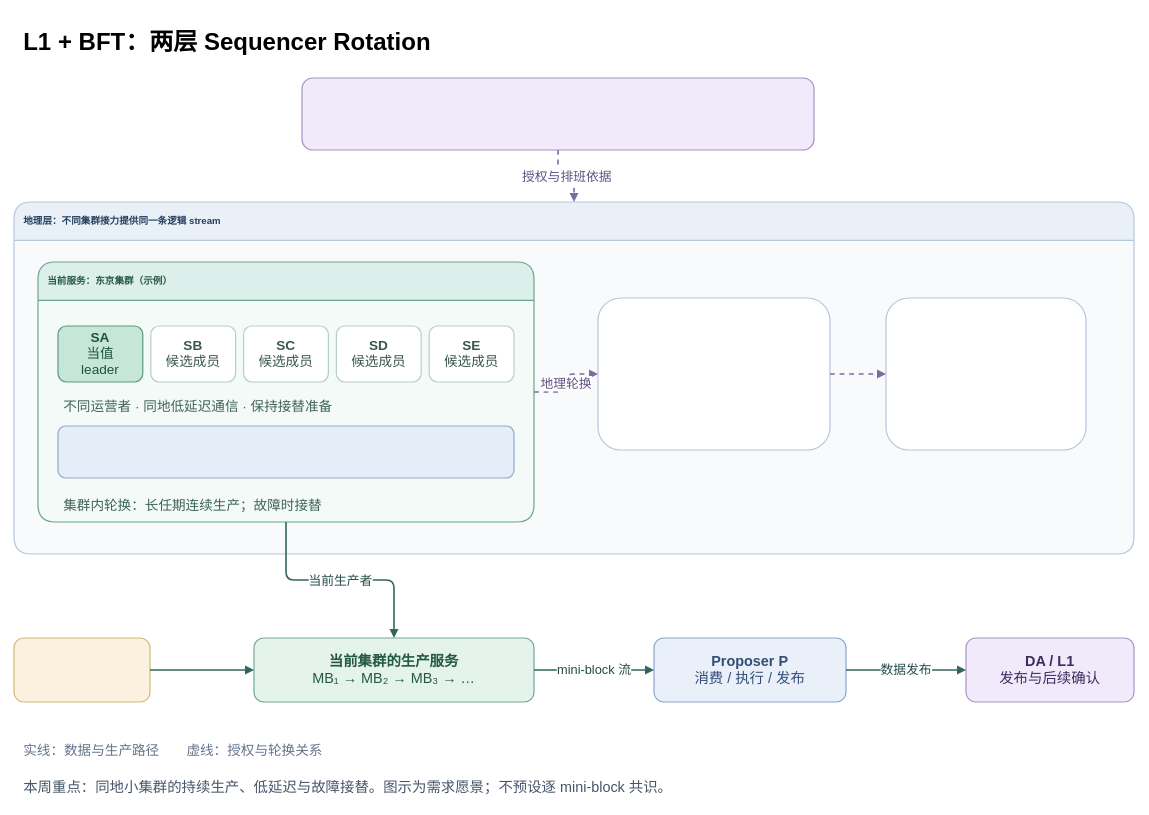
Image size: 1149x815. Some labels were removed from this diagram. Each missing label, with the centre of its shape:
L1：质押与授权依据 成员与权重 · 随机排班依据 · 奖惩结算: the point at 557,113
其他地理集群 相同结构 准备接力服务: the point at 985,373
新加坡集群（示例） 多个运营者的 sequencer 本地协调与接替: the point at 713,373
本地 BFT 协调 生产权 / 进度 / 接替；具体确认范围待定: the point at 285,451
用户交易: the point at 81,669
